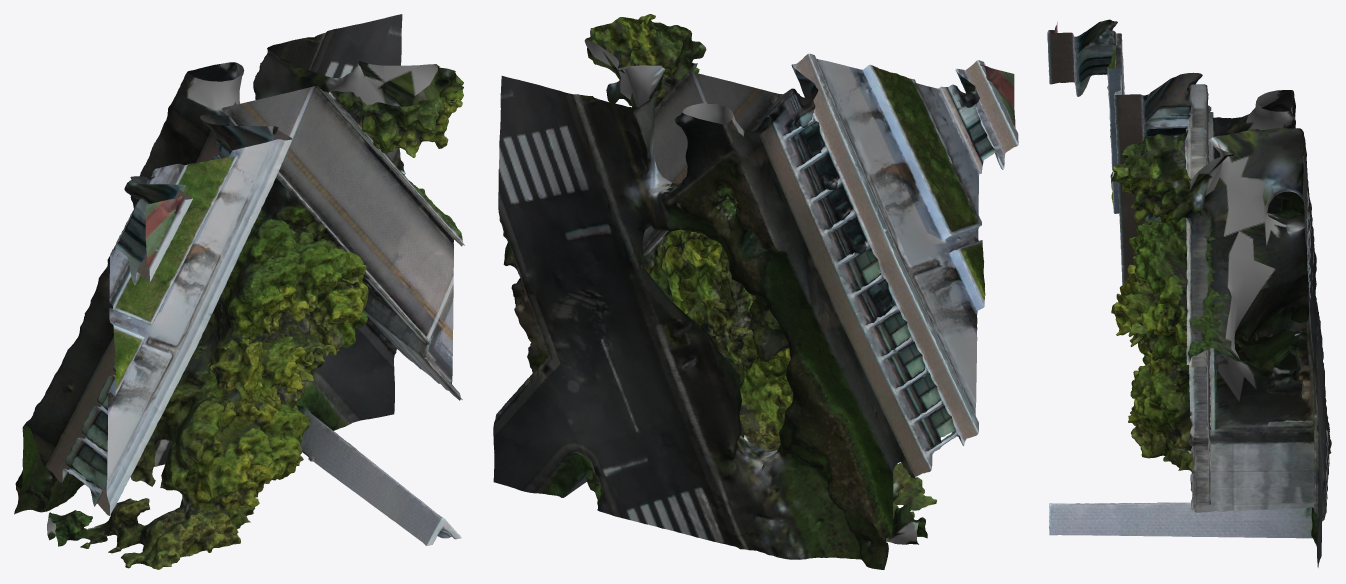
The model's file is Tile_+014_+016.fbx.
3 views of the same model, side by side, from view 1: azimuth 30°, elevation 25°; view 2: azimuth 150°, elevation 25°; view 3: azimuth 270°, elevation 25° (orthographic). The views are drawn at different scales.
Visible parts, largest first — view 1: DefaultName; view 2: DefaultName; view 3: DefaultName.
Part boxes in pixels (box(x1,y1,x2,y2)): DefaultName: box(14, 14, 464, 569); DefaultName: box(493, 14, 1018, 569); DefaultName: box(1047, 19, 1331, 567).
Size of the model in its own units: 22.54 by 22.54 by 15.34.
